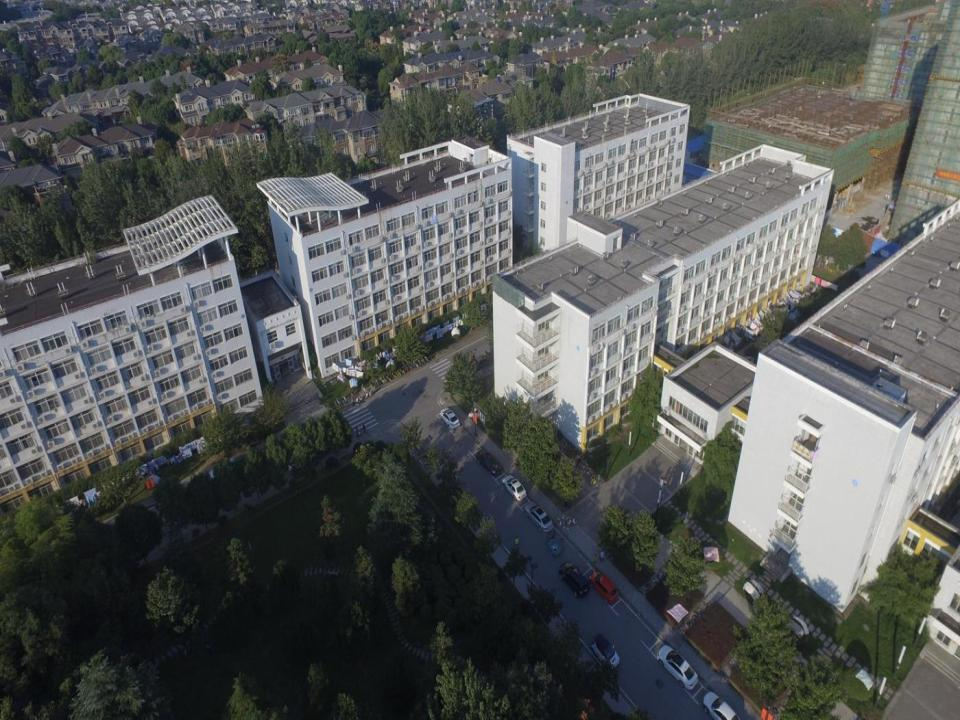car: (657, 642, 699, 691), (558, 561, 590, 599), (588, 569, 620, 606), (590, 632, 620, 668), (702, 690, 739, 719), (524, 500, 554, 534), (501, 472, 528, 501), (286, 447, 315, 470), (208, 457, 236, 480), (477, 450, 501, 476), (440, 407, 460, 430)
